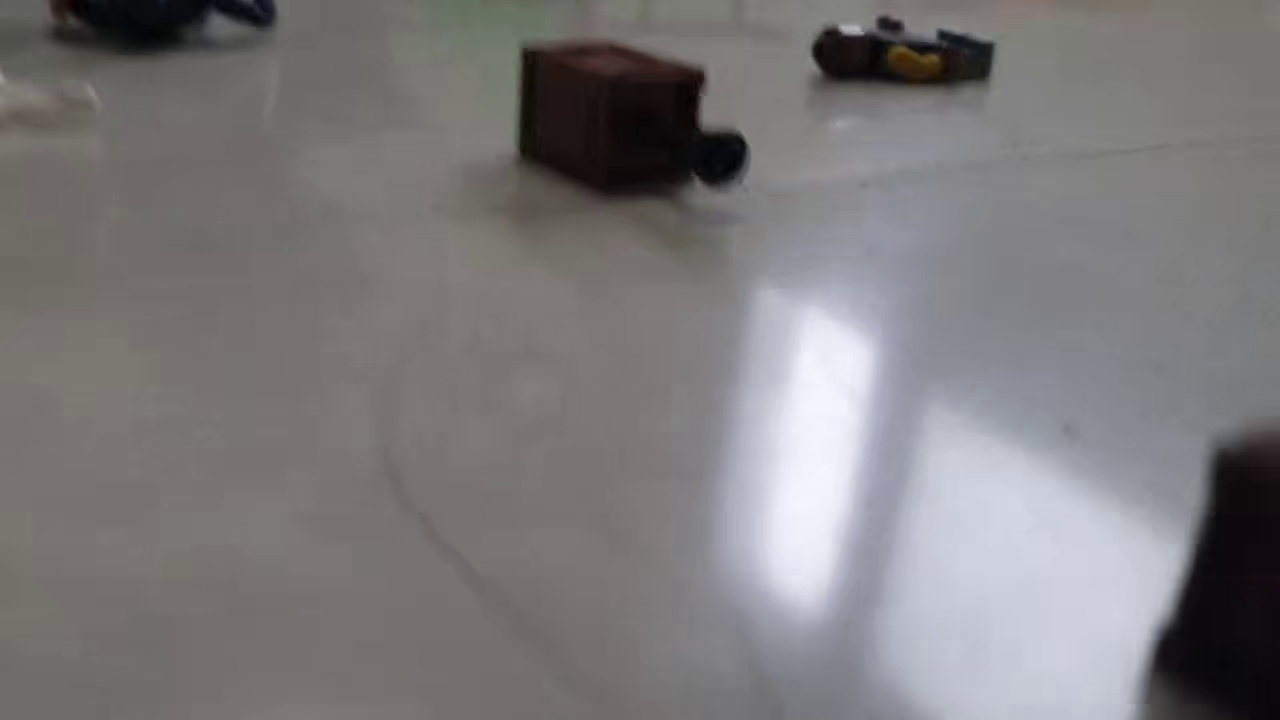box: (514, 37, 753, 206)
people: (809, 16, 1000, 85)
